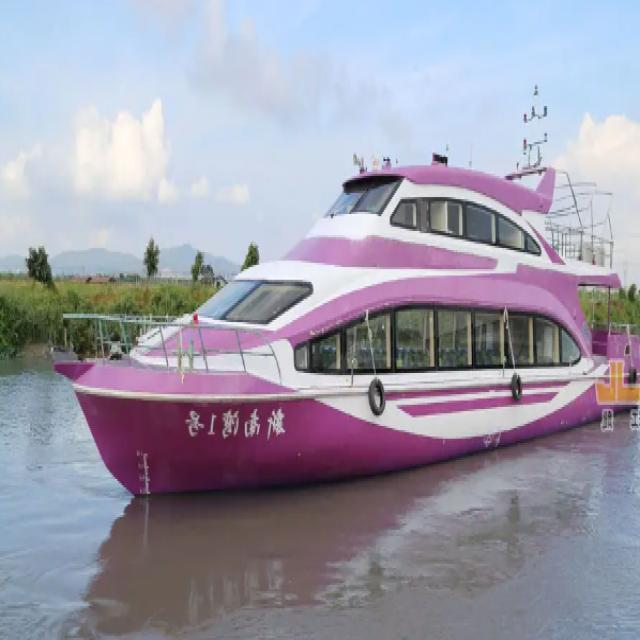houseboat: (70, 94, 633, 502)
